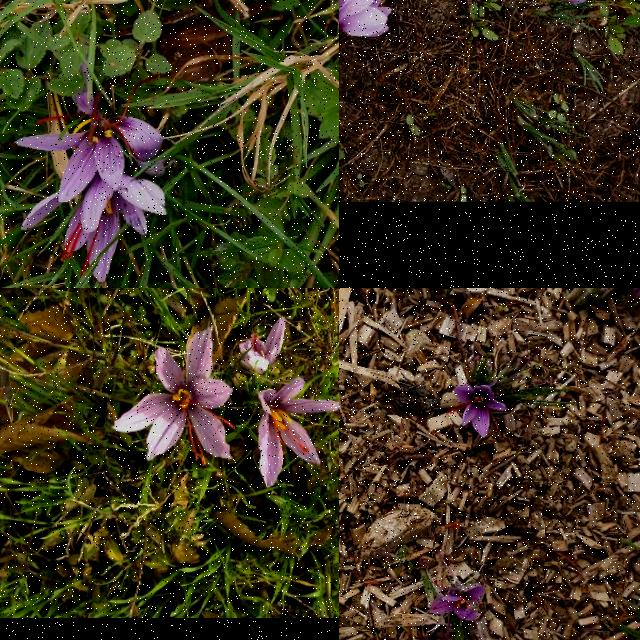flower: (111, 326, 236, 466), (258, 379, 339, 489), (449, 384, 508, 438), (239, 318, 285, 374), (339, 0, 392, 37), (431, 586, 485, 622), (563, 0, 591, 6)
overlap: (14, 61, 168, 282)
